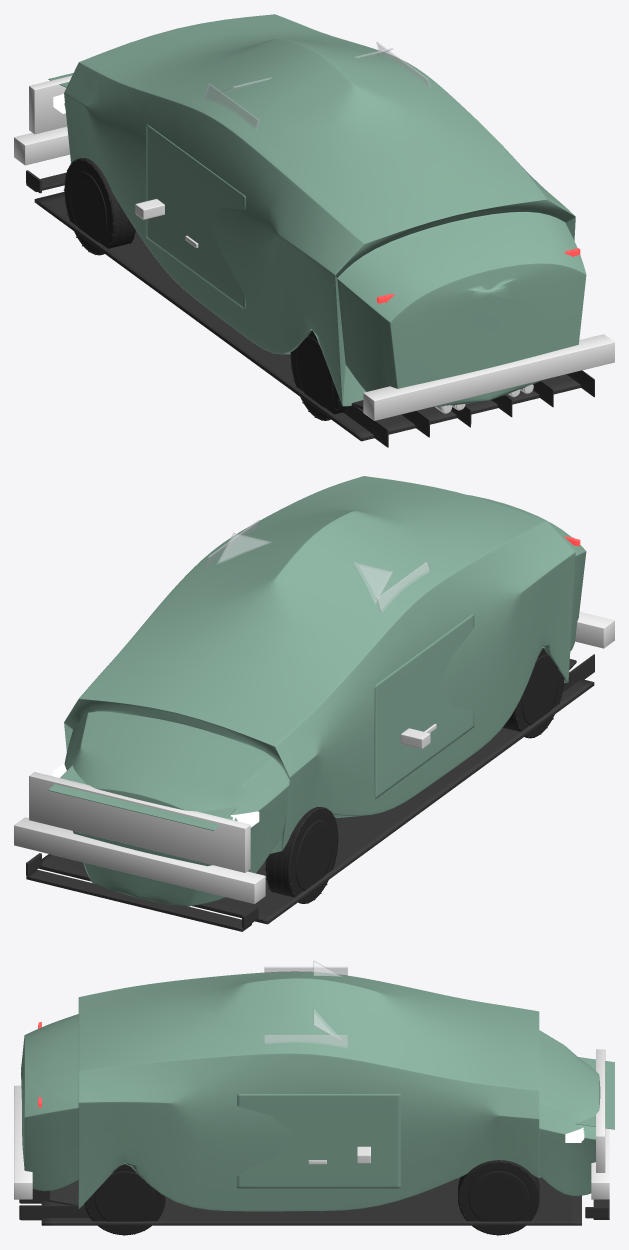
Rendered from vehicle.opt.glb.
3 renders of one model, top to bottom at view 1: azimuth 30°, elevation 25°; view 2: azimuth 150°, elevation 25°; view 3: azimuth 270°, elevation 25°, orthographic. The views are drawn at different scales.
Visible parts, largest first — view 1: BODY_MainShell, UNDERBODY_FlatFloor, BODY_Door_FL, JEWELRY_Sportsman_RearBumper, WHEEL_FL_Tire, WHEEL_RL_Tire, JEWELRY_Sportsman_Grille, JEWELRY_Sportsman_FrontBumper, GLASS_Greenhouse, JEWELRY_Hardware; view 2: BODY_MainShell, JEWELRY_Sportsman_Grille, BODY_Door_FL, UNDERBODY_FlatFloor, JEWELRY_Sportsman_FrontBumper, WHEEL_FL_Tire, AERO_FrontSplitter, WHEEL_RL_Tire, GLASS_Greenhouse, BODY_Hood, JEWELRY_Sportsman_RearBumper; view 3: BODY_MainShell, BODY_Door_FR, UNDERBODY_FlatFloor, WHEEL_FR_Tire, WHEEL_RR_Tire, GLASS_Greenhouse, JEWELRY_Sportsman_RearBumper, JEWELRY_Sportsman_Grille, BODY_Hood, JEWELRY_Sportsman_FrontBumper, AERO_FrontSplitter.
Part boxes in pixels (x1=…): BODY_MainShell: x1=64, y1=14, x2=586, y2=406; UNDERBODY_FlatFloor: x1=34, y1=192, x2=594, y2=447; BODY_Door_FL: x1=146, y1=124, x2=245, y2=309; JEWELRY_Sportsman_RearBumper: x1=363, y1=334, x2=614, y2=420; WHEEL_FL_Tire: x1=63, y1=158, x2=135, y2=255; WHEEL_RL_Tire: x1=290, y1=330, x2=345, y2=420; JEWELRY_Sportsman_Grille: x1=29, y1=75, x2=72, y2=134; JEWELRY_Sportsman_FrontBumper: x1=14, y1=126, x2=69, y2=165; GLASS_Greenhouse: x1=204, y1=42, x2=430, y2=129; JEWELRY_Hardware: x1=135, y1=199, x2=533, y2=413; BODY_MainShell: x1=64, y1=476, x2=586, y2=906; JEWELRY_Sportsman_Grille: x1=29, y1=772, x2=250, y2=872; BODY_Door_FL: x1=374, y1=613, x2=474, y2=799; UNDERBODY_FlatFloor: x1=38, y1=654, x2=594, y2=924; JEWELRY_Sportsman_FrontBumper: x1=14, y1=817, x2=265, y2=903; WHEEL_FL_Tire: x1=265, y1=807, x2=338, y2=903; AERO_FrontSplitter: x1=26, y1=853, x2=258, y2=931; WHEEL_RL_Tire: x1=503, y1=648, x2=564, y2=738; GLASS_Greenhouse: x1=204, y1=520, x2=430, y2=612; BODY_Hood: x1=48, y1=765, x2=238, y2=830; JEWELRY_Sportsman_RearBumper: x1=575, y1=611, x2=614, y2=648; BODY_MainShell: x1=21, y1=971, x2=600, y2=1211; BODY_Door_FR: x1=237, y1=1094, x2=400, y2=1188; UNDERBODY_FlatFloor: x1=19, y1=1177, x2=581, y2=1225; WHEEL_FR_Tire: x1=458, y1=1160, x2=539, y2=1235; WHEEL_RR_Tire: x1=84, y1=1164, x2=165, y2=1235; GLASS_Greenhouse: x1=264, y1=960, x2=347, y2=1048; JEWELRY_Sportsman_RearBumper: x1=14, y1=1085, x2=32, y2=1199; JEWELRY_Sportsman_Grille: x1=596, y1=1049, x2=605, y2=1172; BODY_Hood: x1=575, y1=1057, x2=614, y2=1129; JEWELRY_Sportsman_FrontBumper: x1=591, y1=1128, x2=609, y2=1199; AERO_FrontSplitter: x1=585, y1=1199, x2=609, y2=1219.
Size of what is drawn, in the model's own units: 2.36 by 2.01 by 5.17.
